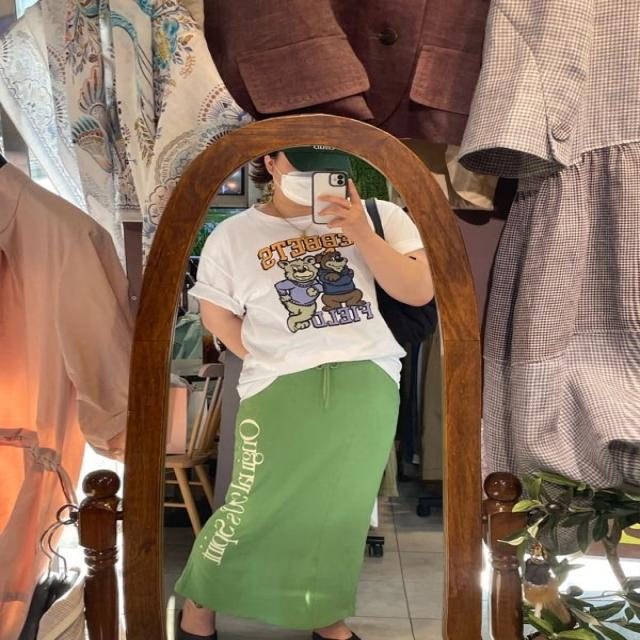shortsleeve: (194, 191, 434, 398)
skirt: (171, 355, 400, 629)
